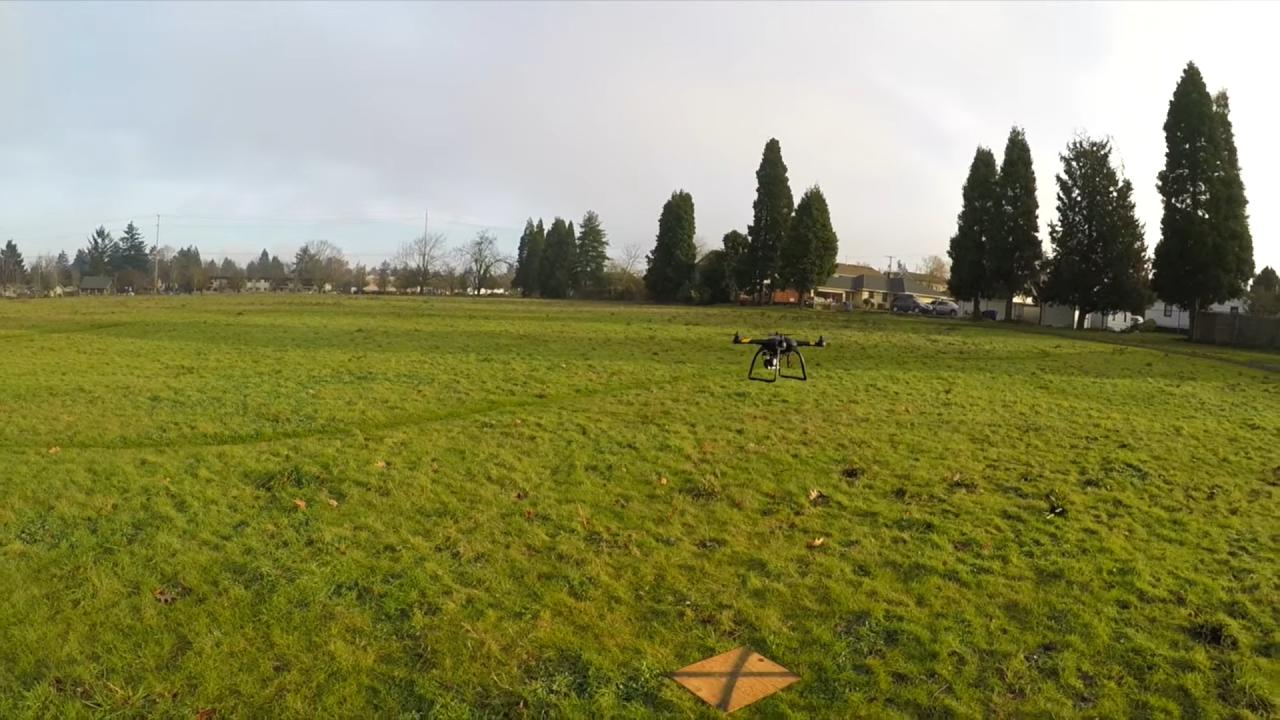Drone: (715, 323, 837, 393)
